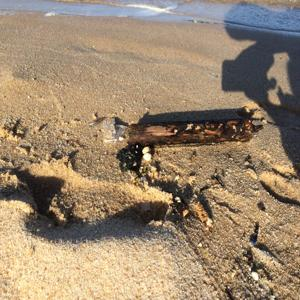plastic: (119, 147, 148, 174), (104, 109, 127, 143)
